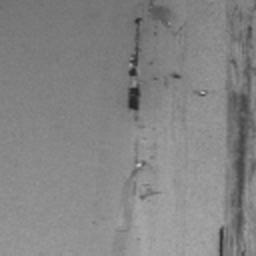Slag inclusion: (216, 0, 256, 253), (125, 0, 178, 122), (140, 186, 161, 202), (131, 159, 148, 178), (191, 88, 210, 96), (170, 70, 184, 79), (146, 58, 157, 68), (150, 76, 160, 82), (152, 29, 157, 38)
